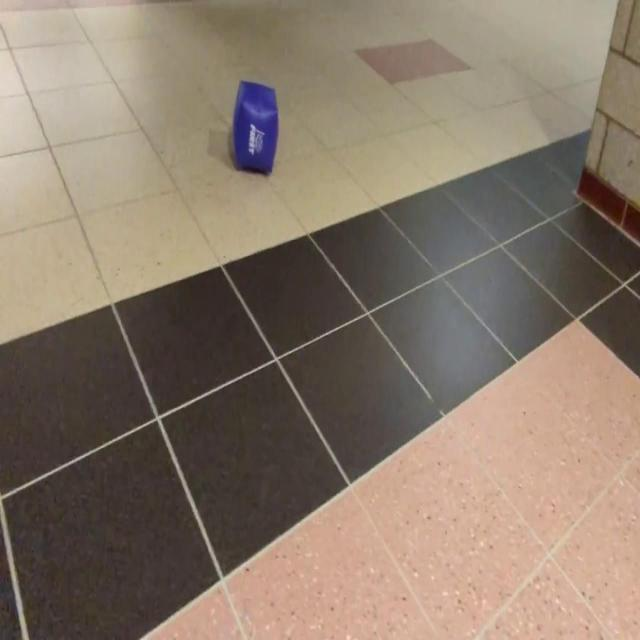frc_cube: (232, 81, 278, 167)
